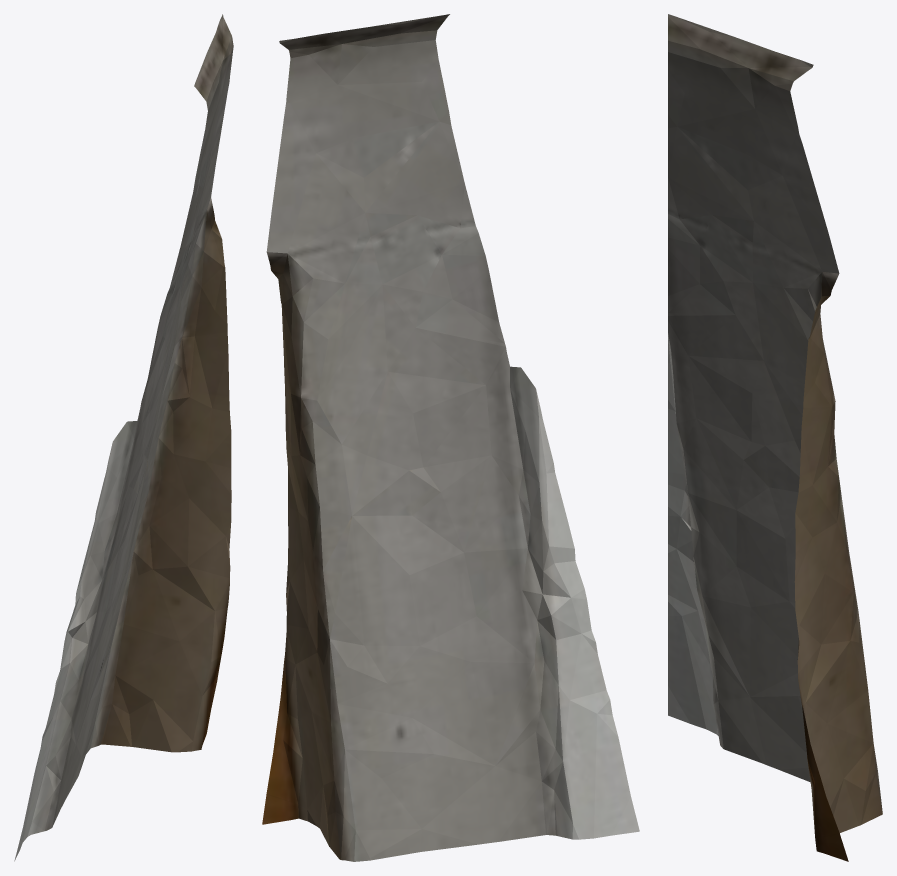
3 renders of one model, left to right at view 1: azimuth 30°, elevation 25°; view 2: azimuth 150°, elevation 25°; view 3: azimuth 270°, elevation 25°, orthographic. The views are drawn at different scales.
Bounding box in the file's own units: 0.3297 × 0.8374 × 0.2044.
1 material, 1 textured.
